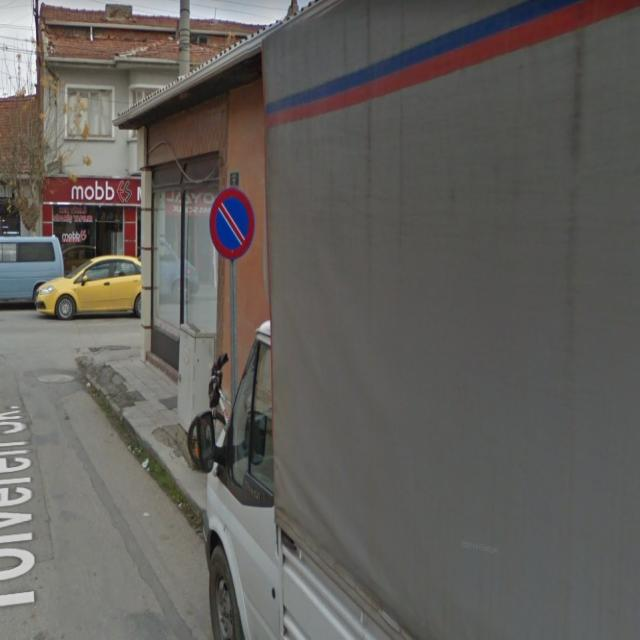parkyasak: (210, 188, 256, 260)
